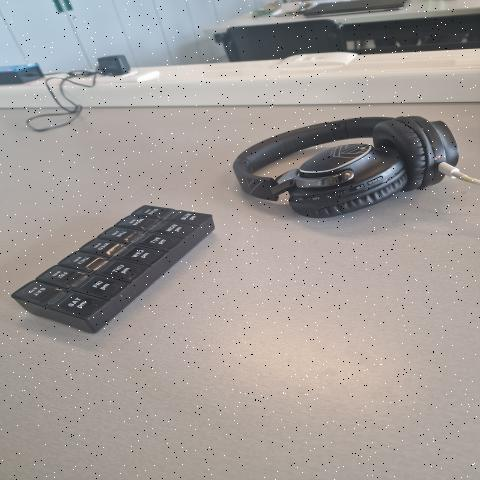Pill-box: (6, 137, 233, 393)
